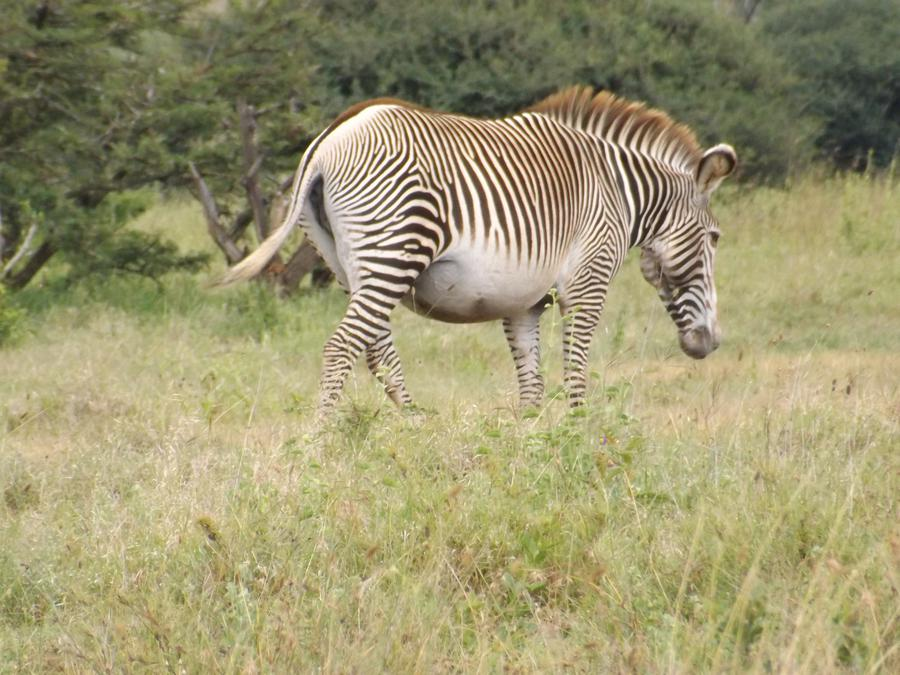zebra_grevys: (317, 102, 606, 298)
